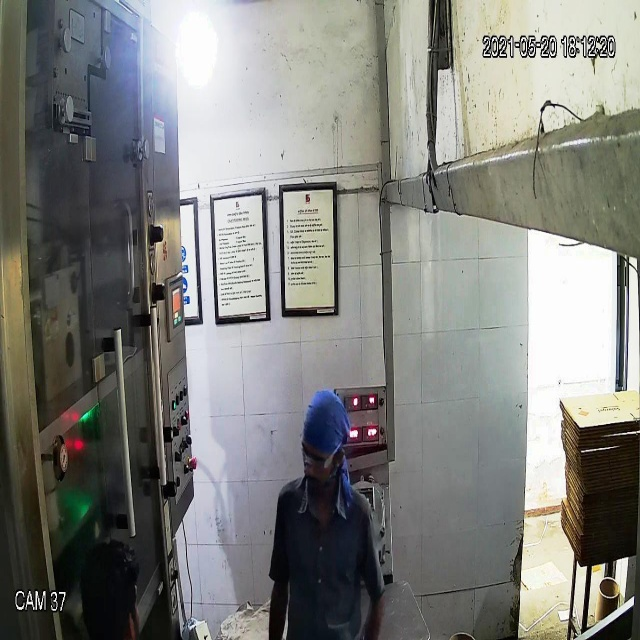Gafas: (298, 441, 341, 474)
